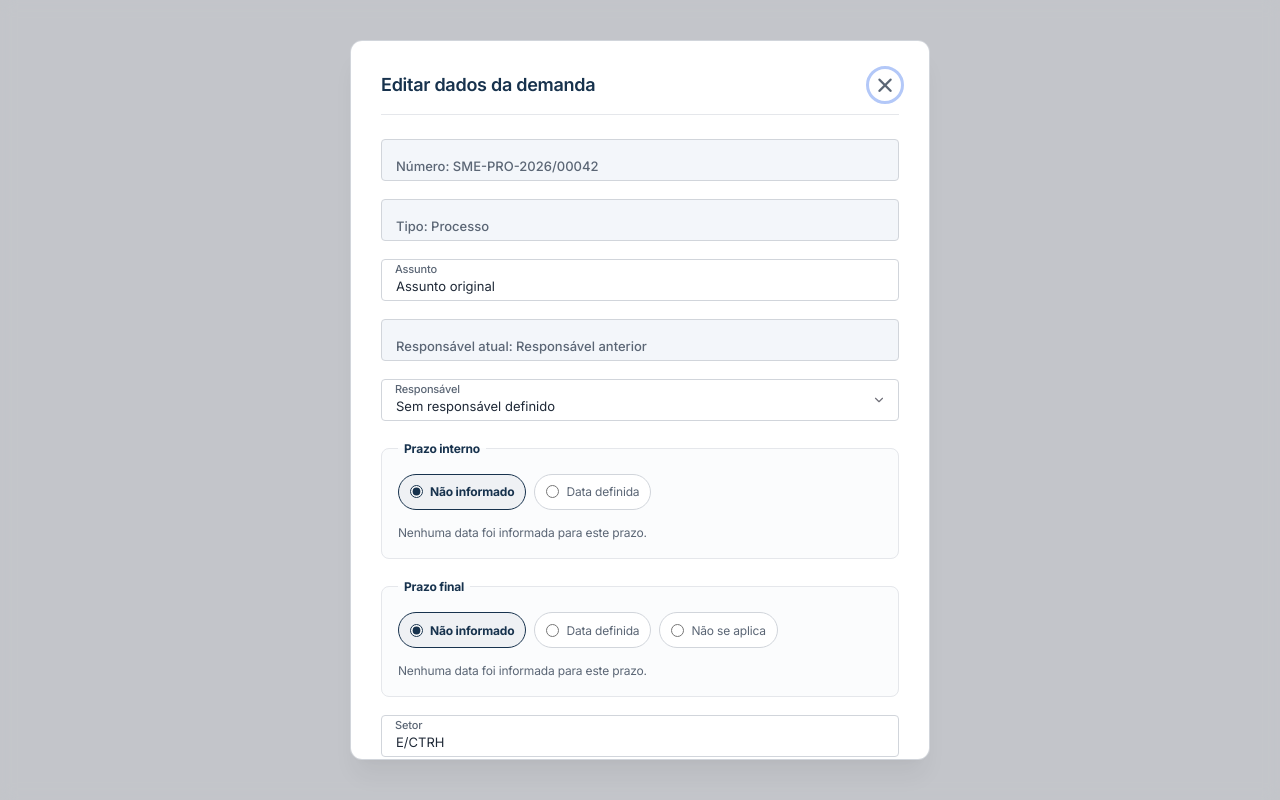
Test: informações apresentadas ao usuário › exibe um campo de motivo completo somente quando a alteração exige justificativa
The width and height of the screenshot is (1280, 800).
Replace the text in the field labelled "Assunto" with "Assunto alterado" at (640, 280), box [381,259,899,301]
(page scrolled)
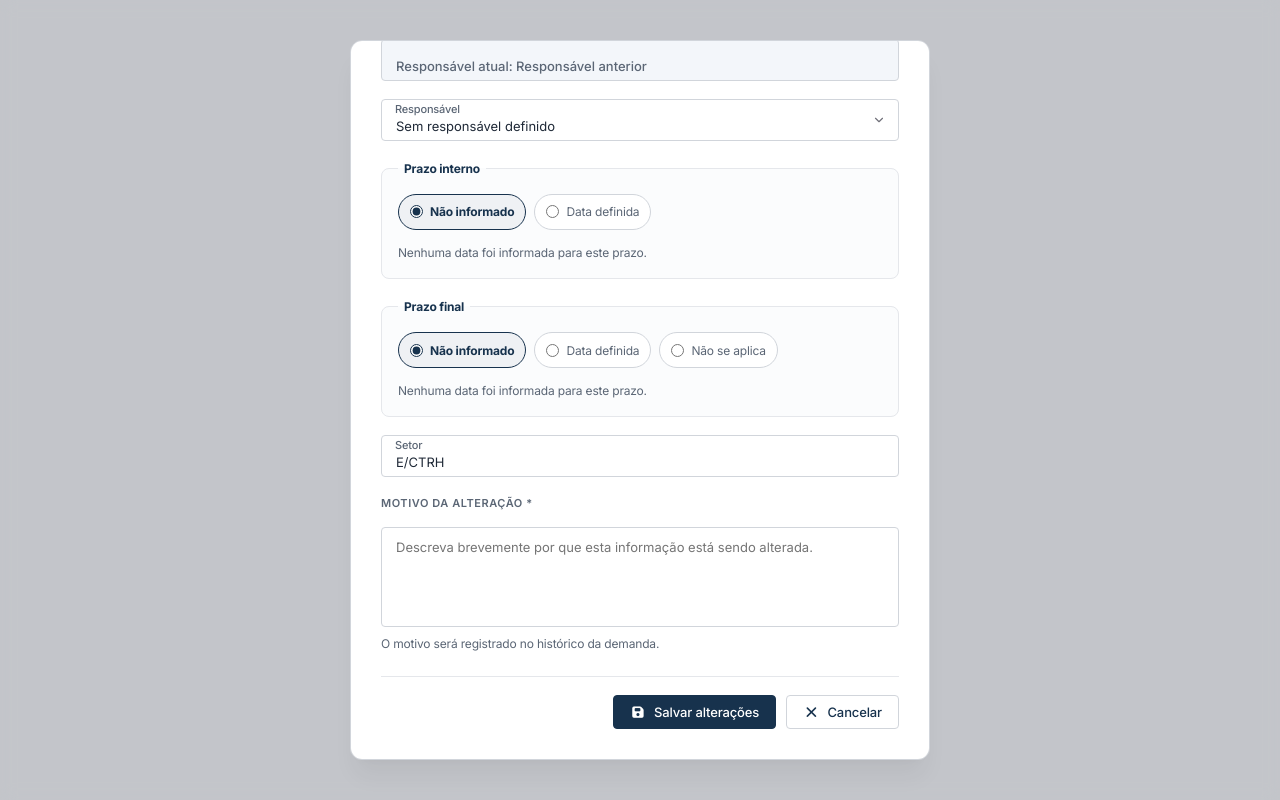
Expected: the text box labelled "Motivo da alteração *" is shown, [381,527,899,627]
Expected: the text "O motivo será registrado no histórico da demanda." is shown, [381,636,659,651]
